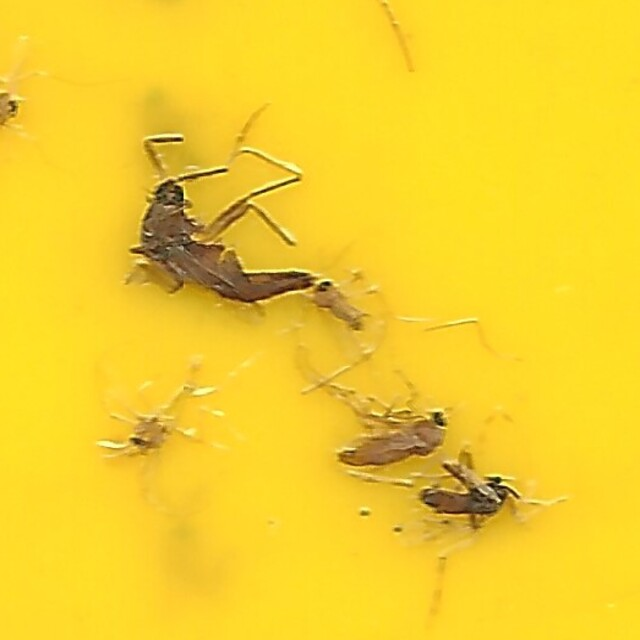Nematocera: (125, 119, 317, 306), (333, 389, 455, 470), (122, 372, 214, 470), (406, 466, 518, 521), (311, 272, 376, 347)
